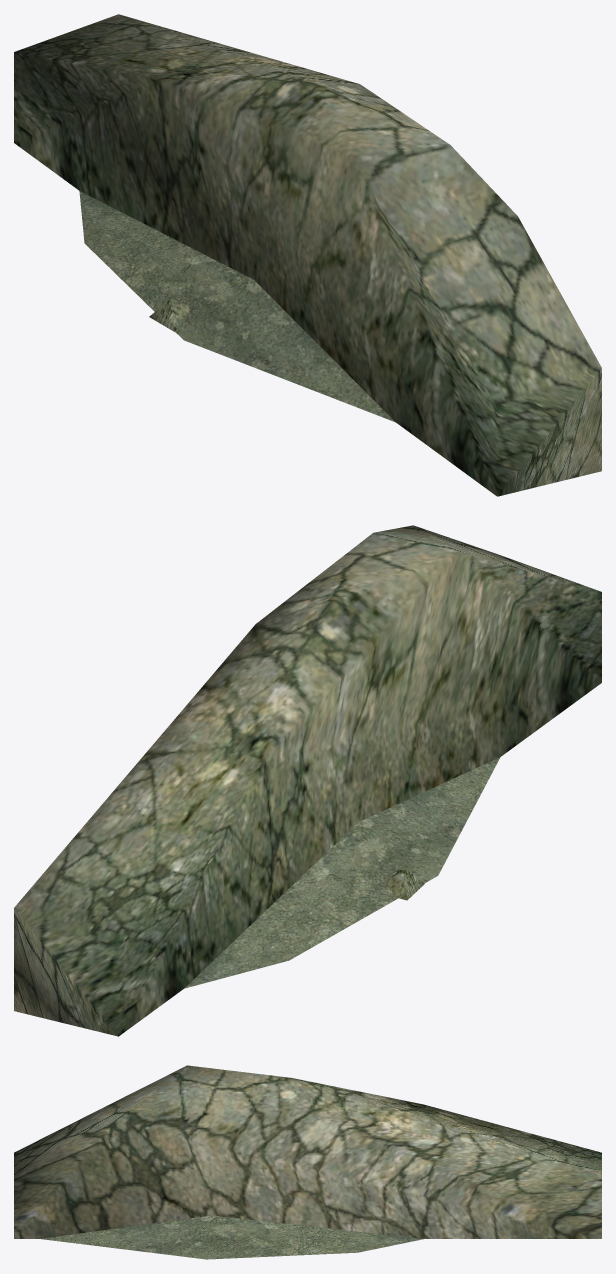
File: thm_nboo_gungan_wall_ruined_sm_s01_l2.fbx
3 renders of one model, top to bottom at view 1: azimuth 30°, elevation 25°; view 2: azimuth 150°, elevation 25°; view 3: azimuth 270°, elevation 25°, orthographic. The views are drawn at different scales.
Visible parts, largest first — view 1: mesh_node; view 2: mesh_node; view 3: mesh_node.
Part boxes in pixels (box(x1,y1,x2,y2)): mesh_node: box(14, 14, 601, 496); mesh_node: box(14, 525, 601, 1036); mesh_node: box(14, 1065, 601, 1259).
Size of the model in its own units: 1.2 by 1.08 by 4.
